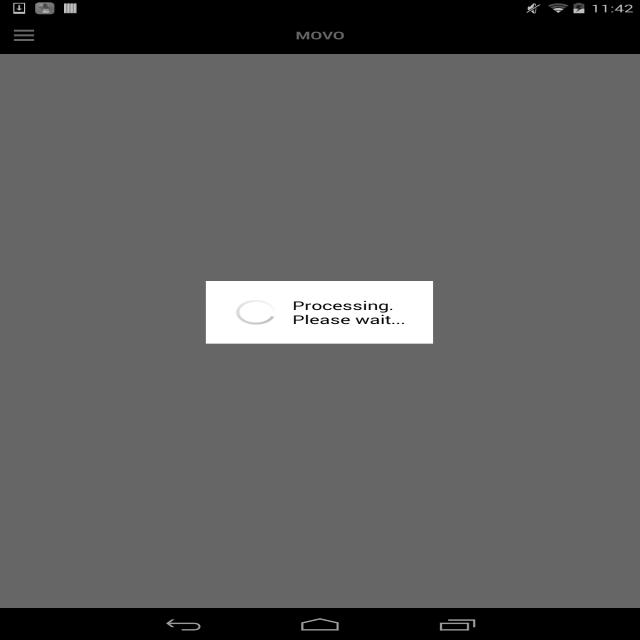Button: (11, 19, 79, 52), (561, 19, 629, 52)
EditText: (13, 105, 629, 123), (13, 165, 629, 183), (13, 225, 629, 243), (56, 135, 630, 153), (82, 195, 602, 213), (110, 285, 630, 303), (118, 255, 629, 273)
ImageButton: (253, 58, 270, 68), (292, 58, 309, 68), (331, 58, 348, 68), (370, 58, 387, 68), (613, 199, 629, 209), (270, 61, 292, 65), (309, 61, 331, 65), (348, 61, 370, 65)
TextView: (0, 72, 640, 98), (64, 23, 576, 37), (64, 37, 576, 48), (13, 225, 134, 238), (13, 255, 118, 268), (13, 286, 109, 298), (13, 108, 104, 120), (12, 198, 82, 210), (13, 168, 64, 180), (13, 138, 56, 150)
